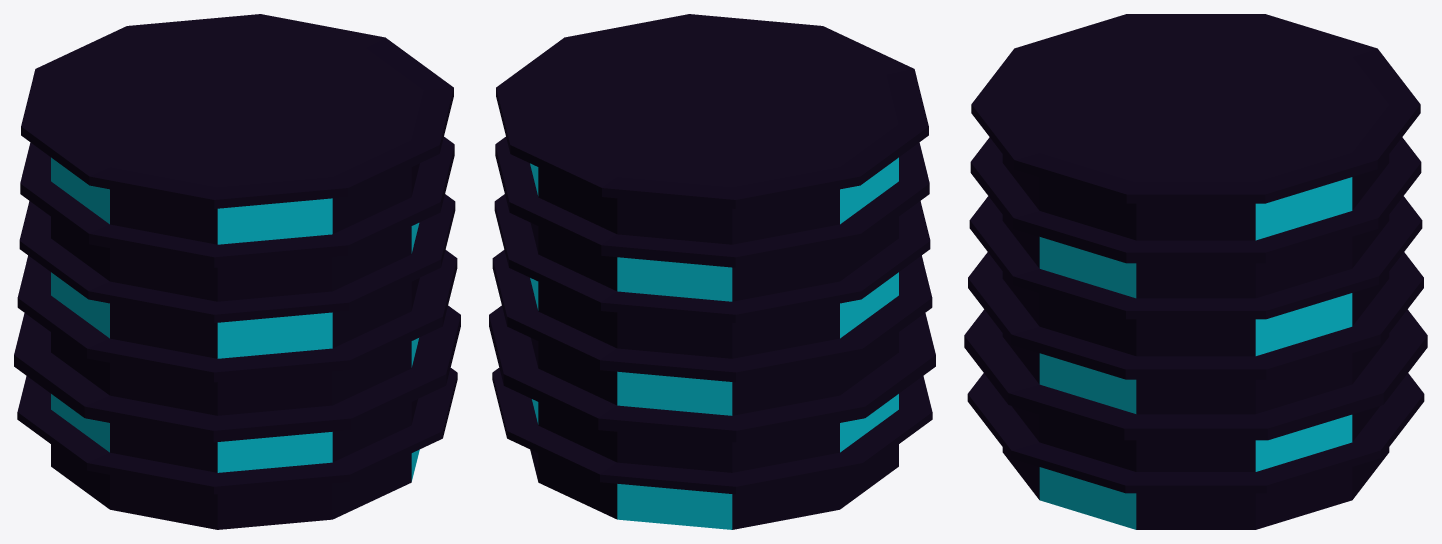
Rendered from Oscuro GRANDE Edificio 4.glb.
The picture shows the model from 3 angles, left to right: view 1: azimuth 30°, elevation 25°; view 2: azimuth 150°, elevation 25°; view 3: azimuth 270°, elevation 25°; orthographic projection.
Visible parts, largest first — view 1: Cylinder.006; view 2: Cylinder.006; view 3: Cylinder.006.
Boxes of the visible parts, bbox=[...] form: Cylinder.006: bbox=[14, 14, 460, 529]; Cylinder.006: bbox=[489, 14, 935, 529]; Cylinder.006: bbox=[964, 14, 1427, 529].
Bounding box in the file's own units: 91.64 × 79.79 × 96.35.
